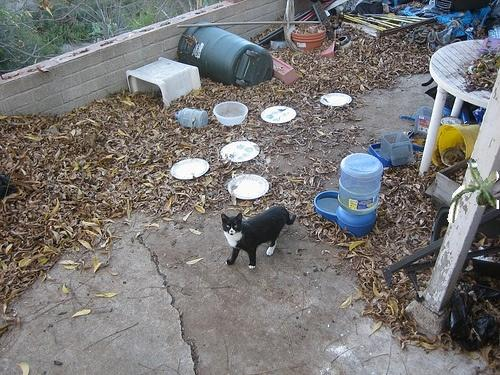tampered: (448, 159, 499, 223)
